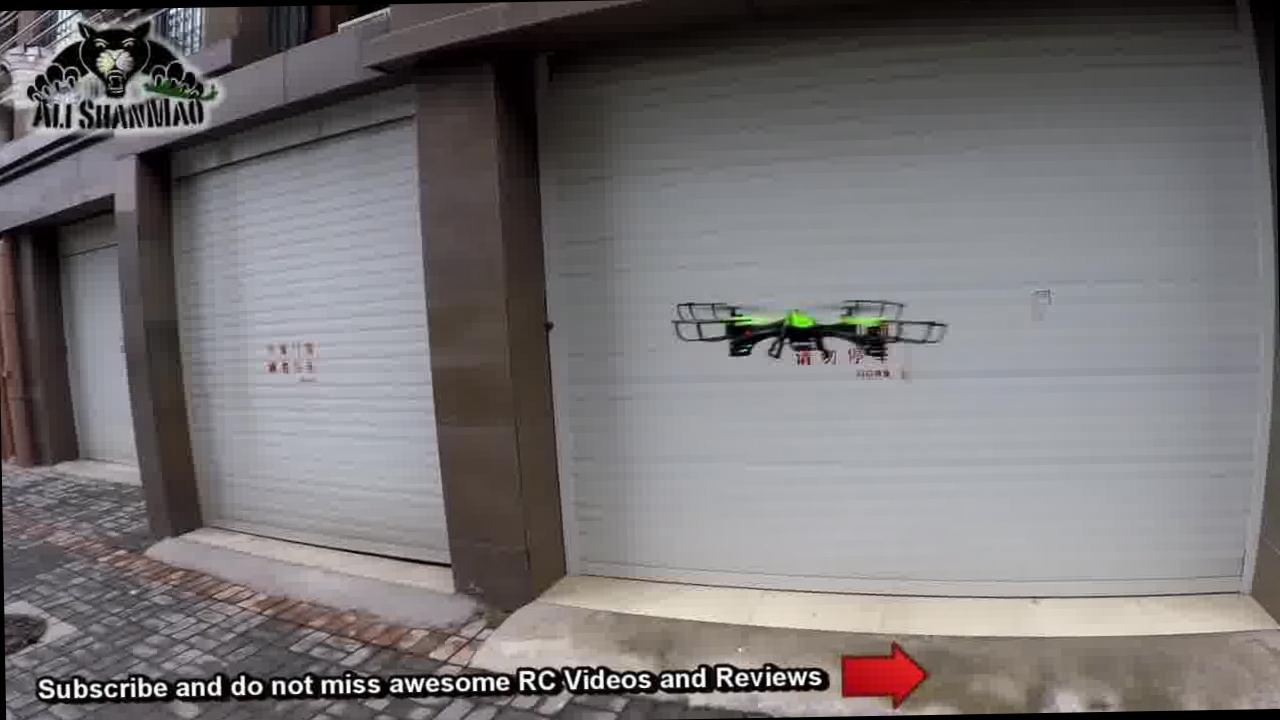drone: (674, 276, 948, 374)
